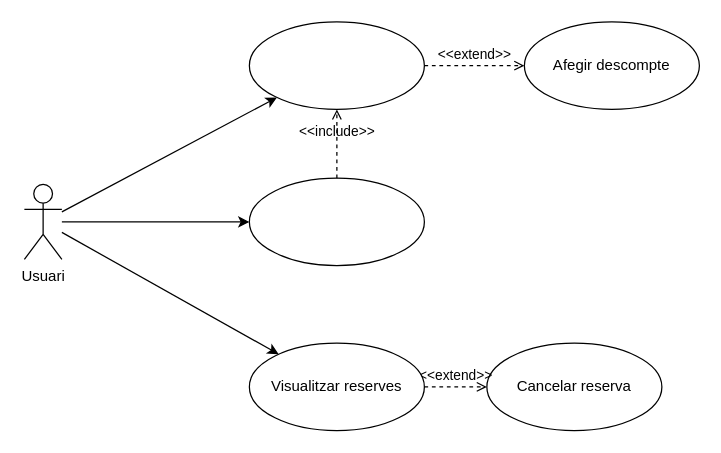
The diagram is 721 pixels wide and 453 high, and some of its shapes have lost their labels. The centre of each missing label's shape, as x and y in pixels:
"Introduir dades de reserva" goes at (x=336, y=65).
"Realitzar reserva" goes at (x=336, y=221).
